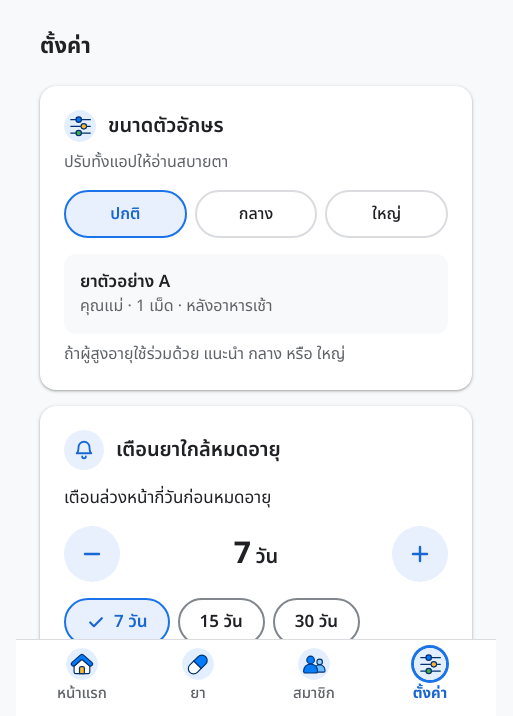
Test: thresholds apply at once, with no save button › the home screen uses the new value at once (a medicine expiring 2026-11-01, 14 days away)
Check: the text "14" is not shown
Step 1. Click the radio button labelled "30 วัน" → (316,622), box [273,598,360,646]
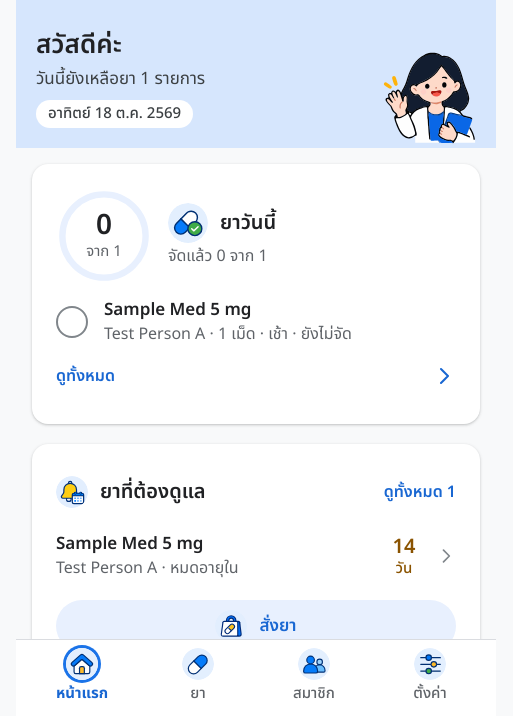
Check: the text "14" is shown, box [392,532,415,562]
Check: the link "14" shows "Sample Med 5 mg", box [56,524,456,588]
